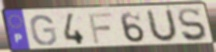4: (63, 12, 87, 46)
6: (119, 10, 146, 43)
F: (87, 11, 114, 45)
G: (29, 13, 59, 47)
S: (176, 7, 209, 43)
U: (145, 8, 179, 44)
